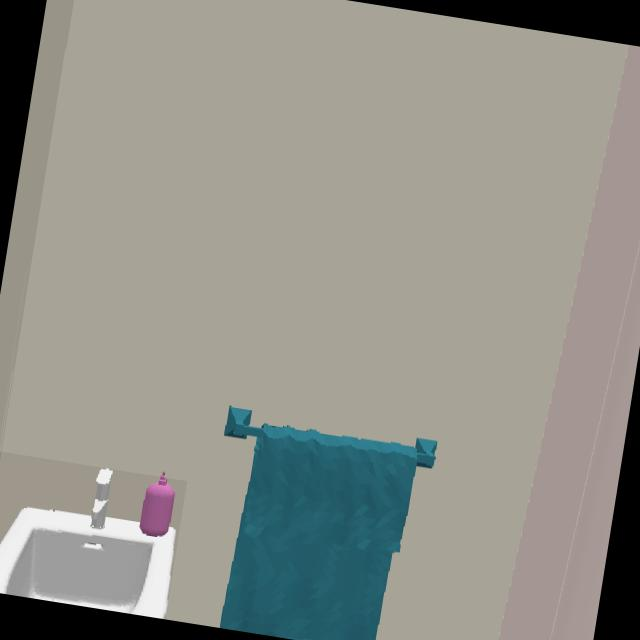washbasin: (0, 468, 176, 619)
